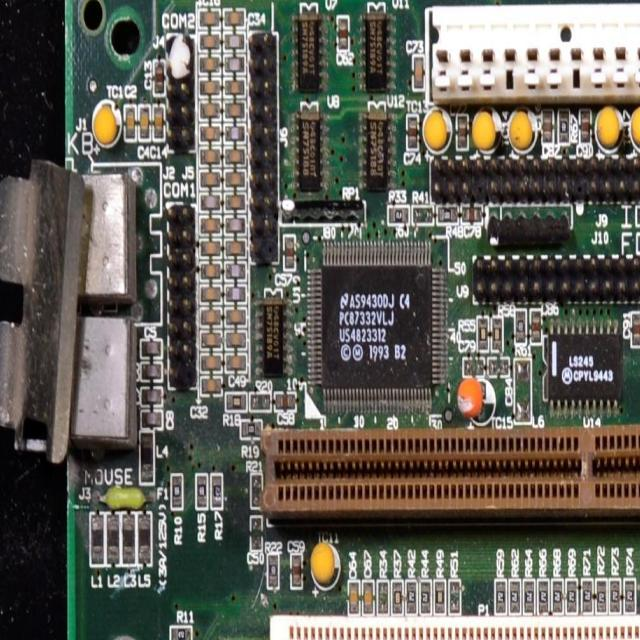IC: (321, 244, 437, 402), (546, 322, 620, 410), (288, 16, 329, 90), (359, 13, 397, 92), (257, 297, 290, 373), (296, 115, 326, 187), (363, 116, 390, 183)
capacitor: (198, 254, 222, 281), (198, 120, 222, 146), (225, 326, 249, 350), (223, 167, 246, 191), (223, 190, 247, 213), (224, 212, 247, 236), (222, 31, 246, 54), (198, 33, 224, 54), (196, 78, 222, 99), (198, 102, 224, 122), (289, 551, 303, 588), (222, 102, 246, 123), (196, 10, 224, 28), (204, 278, 222, 306), (226, 143, 246, 168), (220, 56, 245, 76), (137, 105, 151, 140), (273, 391, 295, 413), (200, 234, 220, 258), (460, 358, 484, 378), (283, 237, 297, 270), (490, 356, 511, 378), (223, 237, 246, 257), (226, 304, 246, 327), (222, 78, 245, 98), (202, 53, 221, 77), (199, 146, 221, 166), (225, 261, 247, 281), (225, 284, 247, 304), (199, 329, 221, 349), (362, 578, 373, 618), (543, 109, 554, 148), (200, 374, 221, 394), (252, 515, 263, 552), (408, 112, 418, 152), (201, 169, 220, 190), (222, 125, 244, 143), (222, 10, 244, 28), (200, 308, 222, 326), (629, 312, 640, 348), (531, 304, 541, 343), (411, 56, 423, 88), (226, 353, 245, 373), (348, 580, 360, 611), (126, 102, 136, 138), (202, 217, 222, 235), (202, 351, 222, 369), (581, 114, 591, 147), (461, 206, 480, 222), (338, 18, 348, 48), (203, 195, 220, 212), (155, 108, 163, 144), (154, 61, 163, 93), (459, 116, 467, 146)
connector: (426, 8, 640, 102), (428, 156, 640, 202), (270, 613, 640, 639), (468, 252, 640, 298)
resistor: (209, 472, 224, 514), (196, 471, 210, 511), (252, 468, 265, 510), (446, 581, 461, 615), (623, 577, 637, 613), (404, 580, 418, 616), (492, 316, 505, 354), (512, 308, 526, 343), (607, 580, 621, 614), (551, 582, 564, 618), (250, 391, 273, 411), (225, 392, 245, 414), (267, 549, 278, 589), (509, 580, 521, 616), (438, 206, 460, 225), (537, 582, 550, 614), (239, 422, 262, 440), (582, 576, 594, 610), (377, 580, 389, 614), (477, 317, 488, 354), (170, 473, 182, 506), (494, 576, 506, 609), (594, 581, 606, 614), (522, 580, 534, 612), (414, 206, 433, 225), (388, 206, 408, 224), (420, 584, 431, 616), (559, 109, 569, 142), (434, 580, 444, 612), (392, 582, 402, 614), (170, 626, 192, 640), (566, 585, 577, 609)
